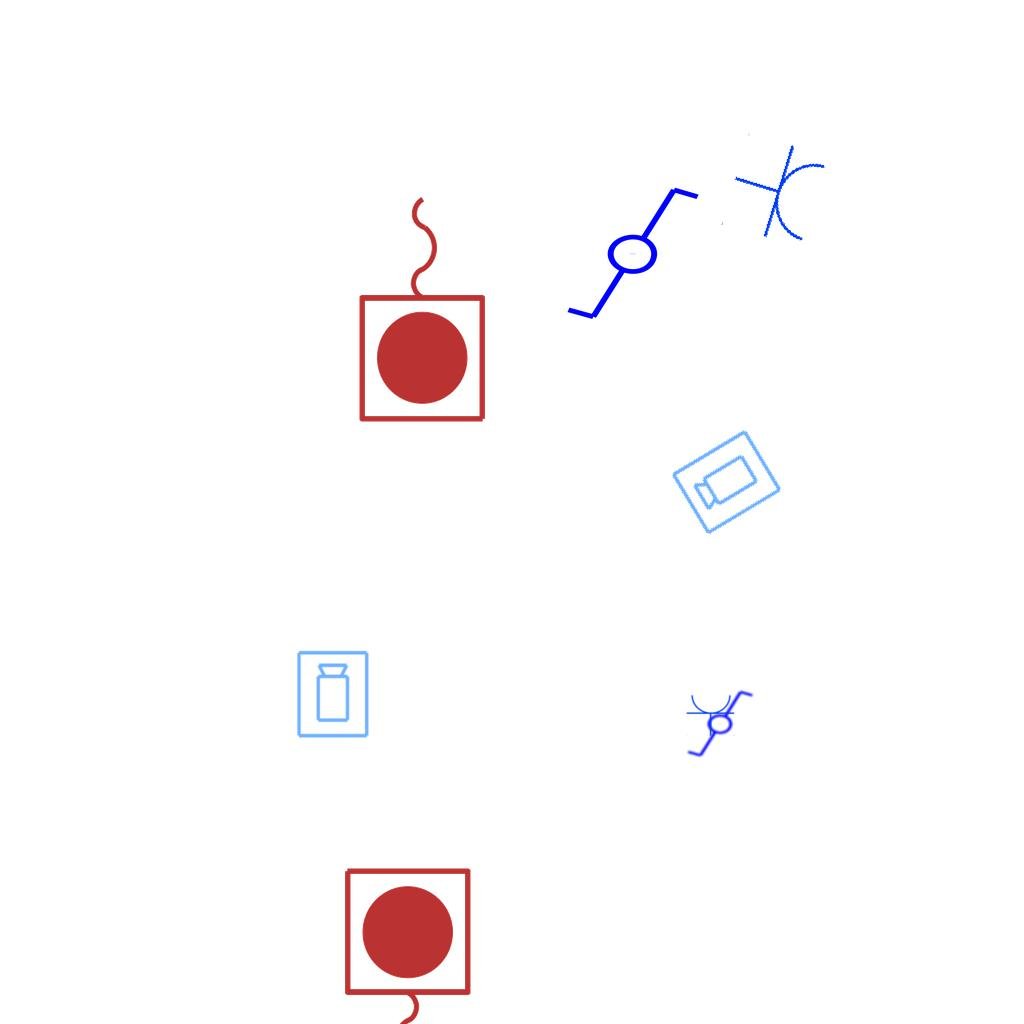KFO_Kamera_mit_Festobjektiv: (667, 425, 786, 538), (295, 649, 372, 740)
Schukosteckdose_einfach: (719, 130, 833, 253), (686, 693, 736, 736)
Wechselschalter: (546, 180, 703, 324), (677, 687, 755, 759)
Zugtaster: (352, 186, 496, 430), (334, 860, 478, 1024)
